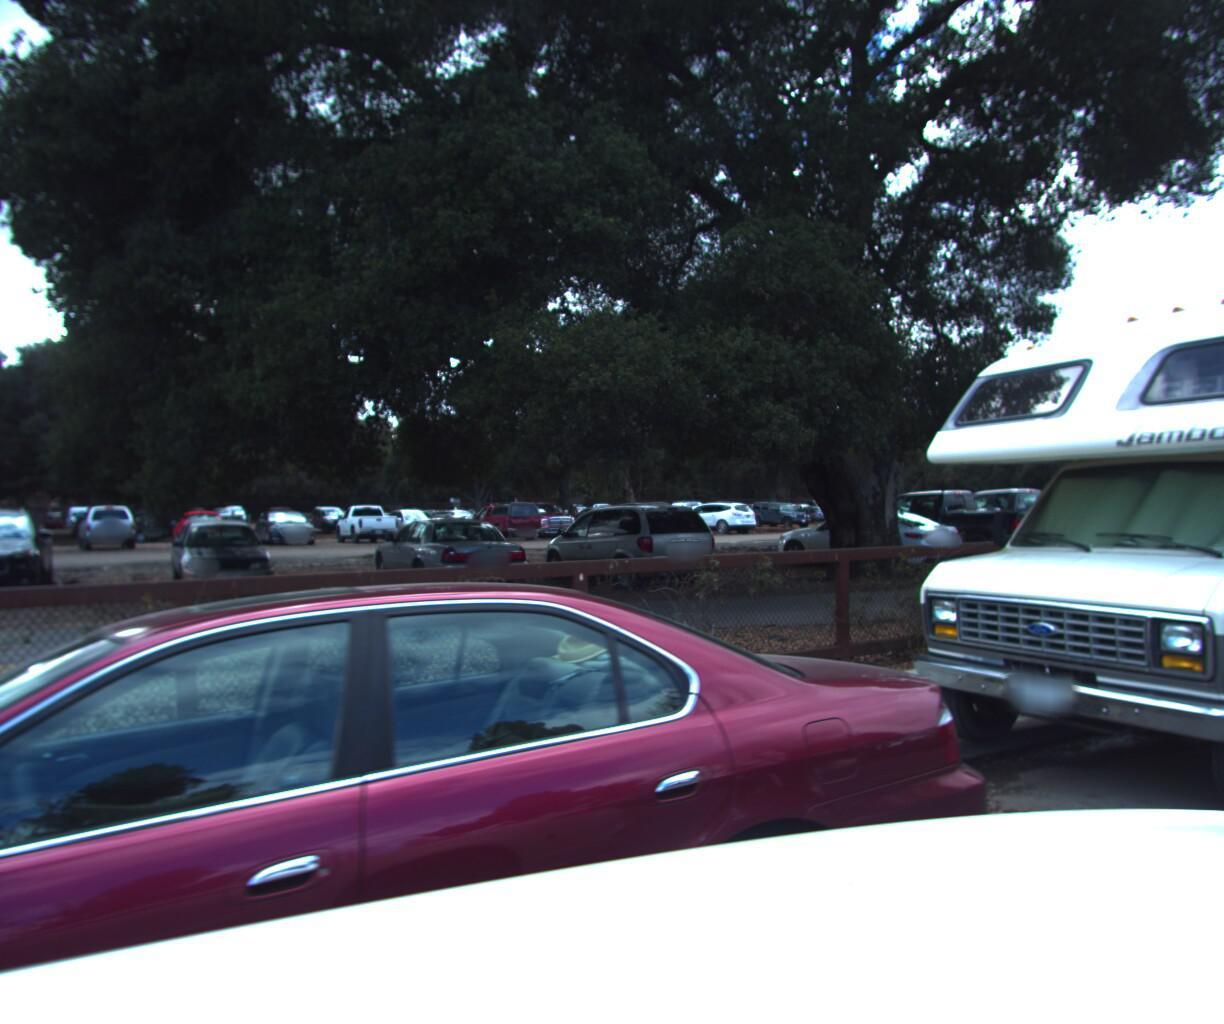car: (0, 546, 1060, 1024), (844, 480, 1066, 563), (533, 494, 725, 587), (920, 480, 1137, 552), (768, 499, 976, 573)
other_vehicle: (854, 239, 1224, 898)
